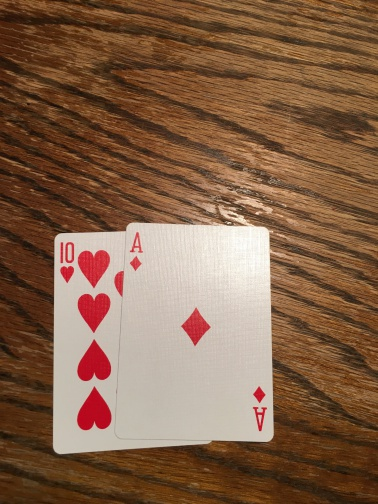ace: (115, 223, 277, 440)
ten: (54, 232, 130, 454)
